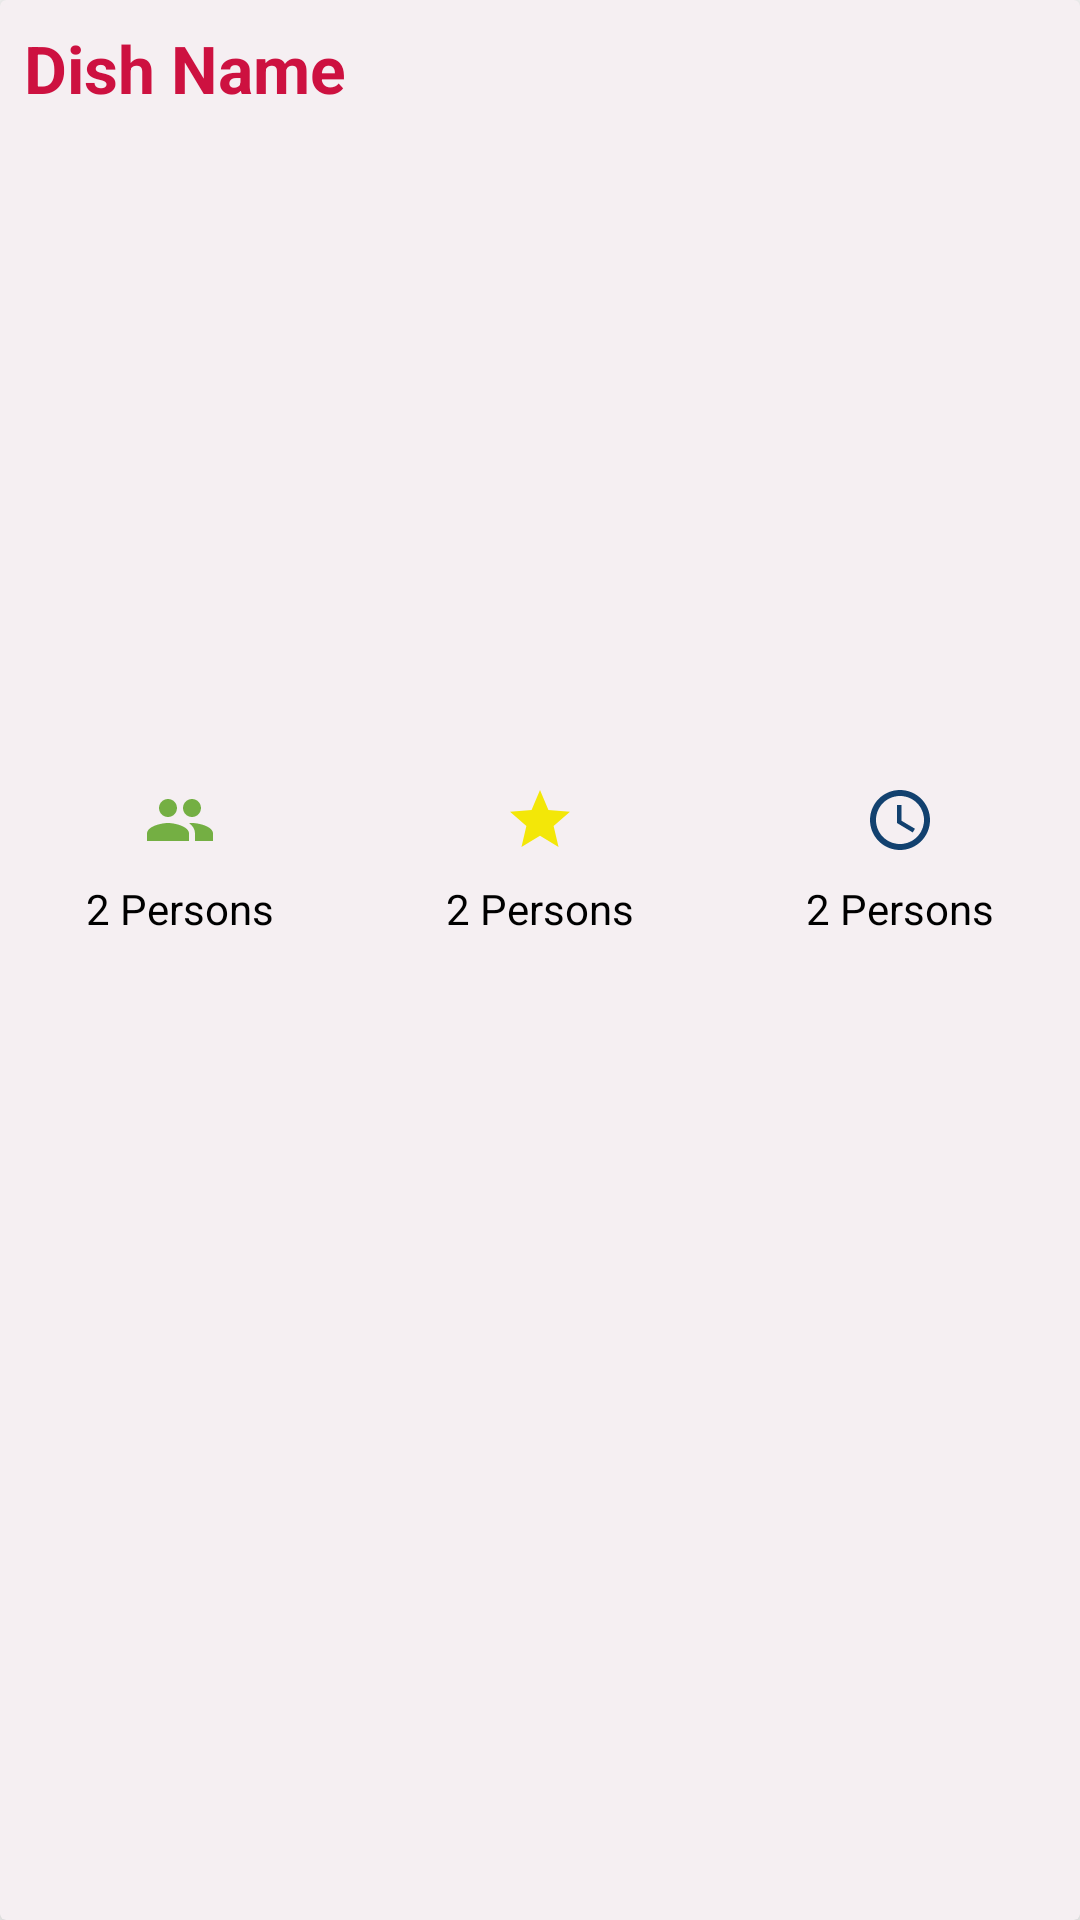

Screen size 1080x1920. Icon name, then its center in pixels as point (x, y):
access time: point (900, 820)
servings: point (180, 820)
star: point (540, 818)
